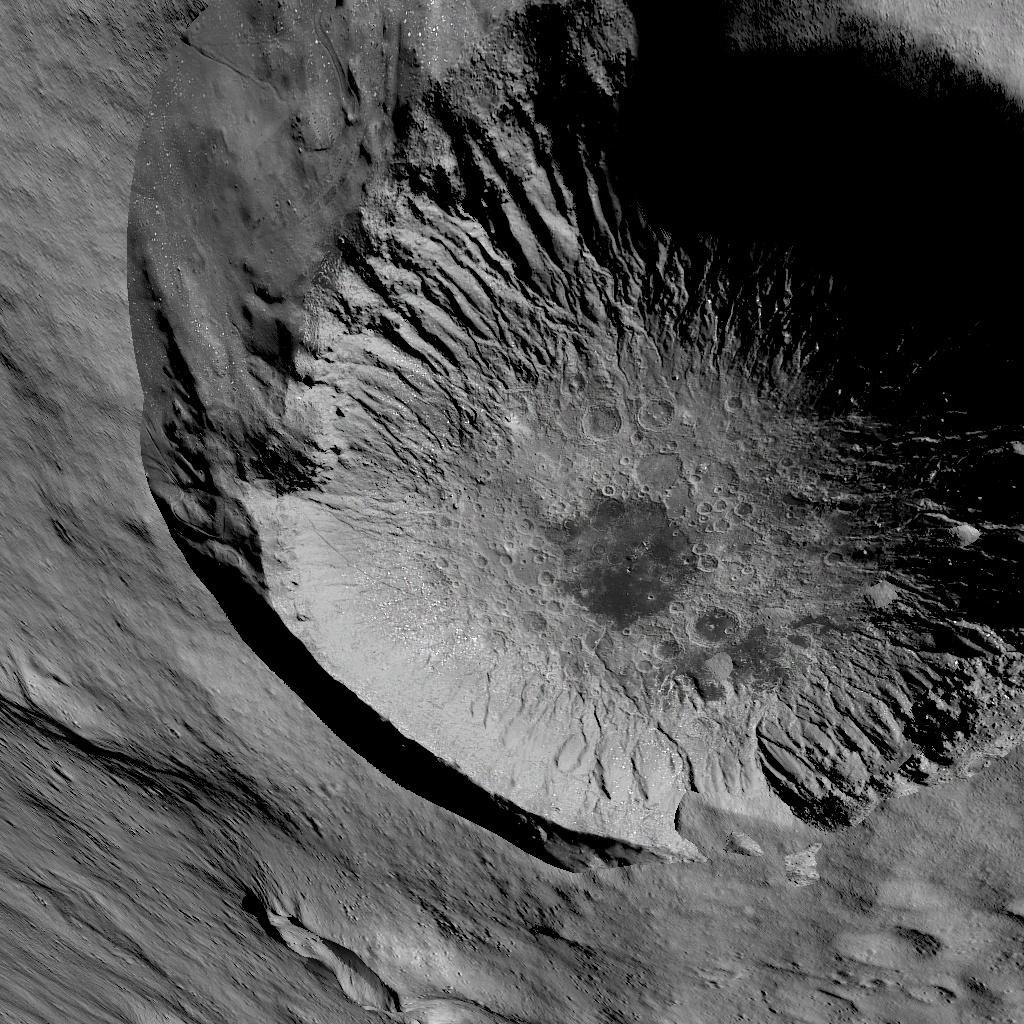Crater: (112, 2, 1023, 878), (198, 892, 416, 1020)
Plan surface: (480, 907, 1024, 1024)
